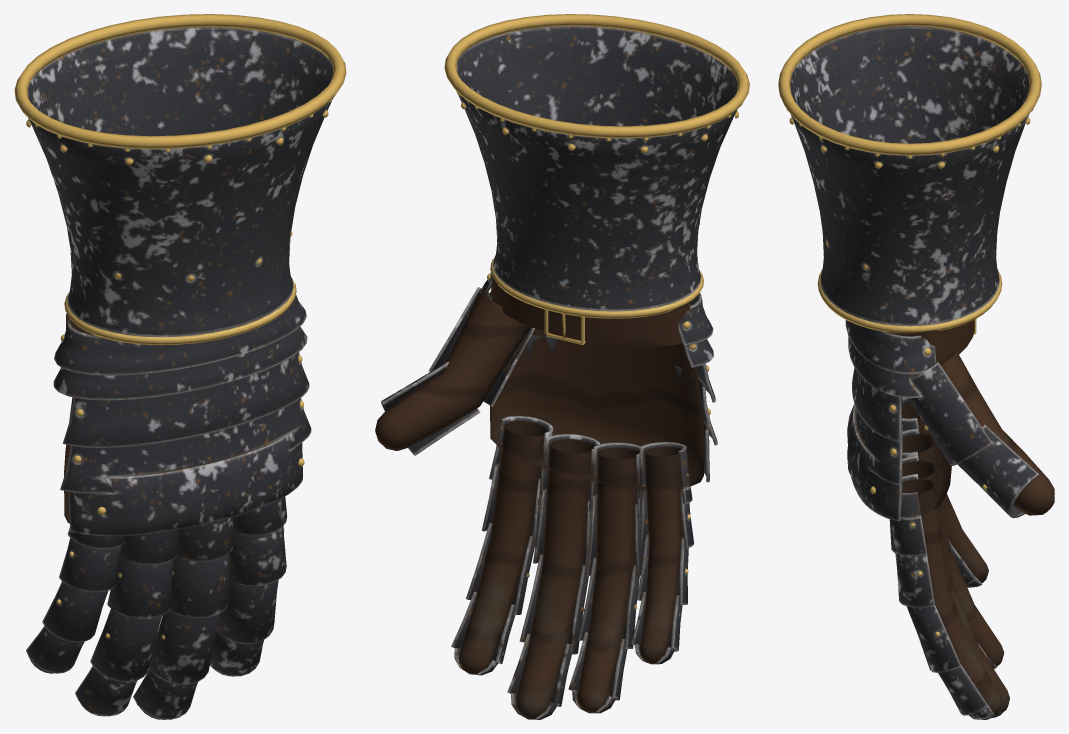
The model's file is SM_EagleGauntlets_L.fbx.
The picture shows the model from 3 angles, left to right: view 1: azimuth 30°, elevation 25°; view 2: azimuth 150°, elevation 25°; view 3: azimuth 270°, elevation 25°; orthographic projection. The views are drawn at different scales.
Parts seen in each view (by area): view 1: SM_EagleGauntlets_L; view 2: SM_EagleGauntlets_L; view 3: SM_EagleGauntlets_L.
Boxes of the visible parts, bbox=[...] form: SM_EagleGauntlets_L: bbox=[14, 14, 346, 719]; SM_EagleGauntlets_L: bbox=[375, 14, 749, 719]; SM_EagleGauntlets_L: bbox=[778, 14, 1054, 719].
Bounding box in the file's own units: 0.1484 × 0.2965 × 0.119.
